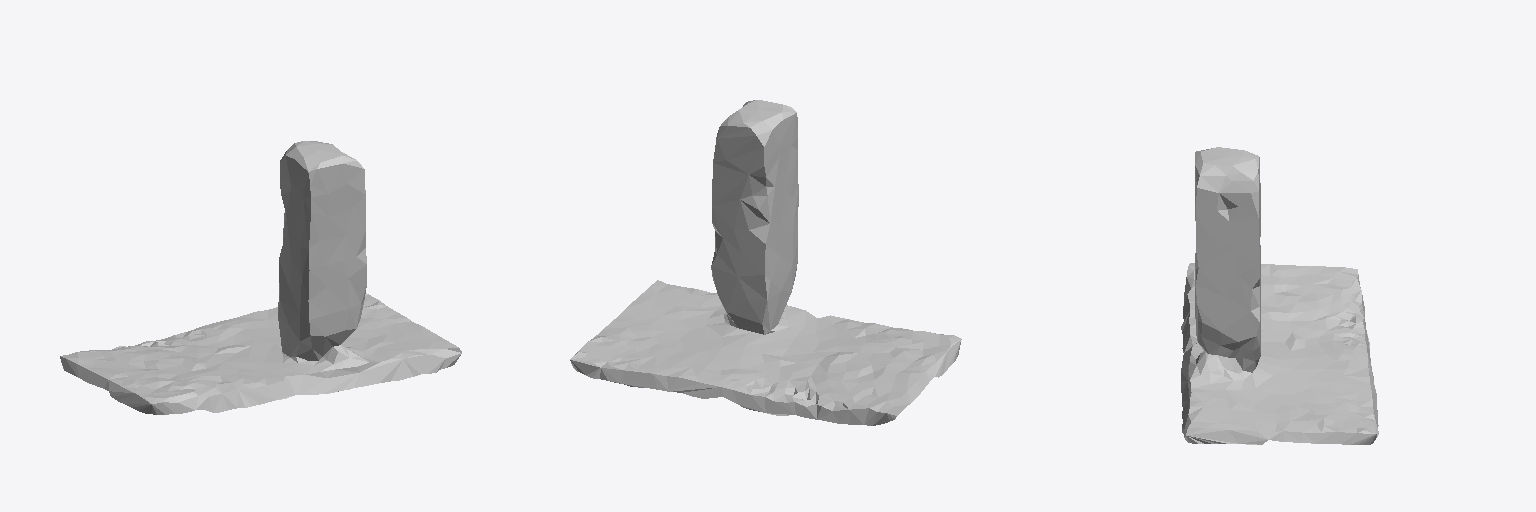
The picture shows the model from 3 angles: view 1: azimuth 30°, elevation 25°; view 2: azimuth 150°, elevation 25°; view 3: azimuth 270°, elevation 25°; orthographic projection.
Parts seen in each view (by area): view 1: moss_concrete.002; view 2: moss_concrete.002; view 3: moss_concrete.002.
Boxes of the visible parts, box(x1,y1,x2,y2) form: moss_concrete.002: box(60, 141, 461, 414); moss_concrete.002: box(570, 100, 961, 425); moss_concrete.002: box(1181, 147, 1378, 444).
Size of the model in its own units: 152 by 106 by 81.4.